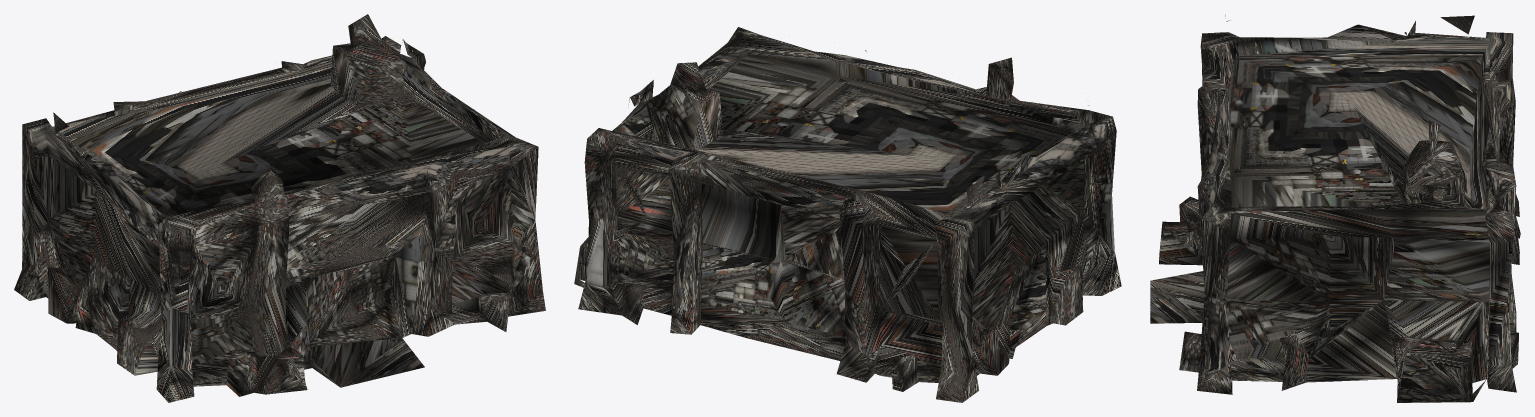
File: bunker_store.glb
3 renders of one model, left to right at view 1: azimuth 30°, elevation 25°; view 2: azimuth 150°, elevation 25°; view 3: azimuth 270°, elevation 25°, orthographic. The views are drawn at different scales.
Visible parts, largest first — view 1: bunker_store; view 2: bunker_store; view 3: bunker_store.
Boxes of the visible parts, x1,y1,x2,y2 form: bunker_store: [14, 14, 545, 402]; bunker_store: [574, 27, 1121, 402]; bunker_store: [1150, 14, 1520, 402].
Bounding box in the file's own units: 1.89 × 1.04 × 1.46.
1 material, 1 textured.
